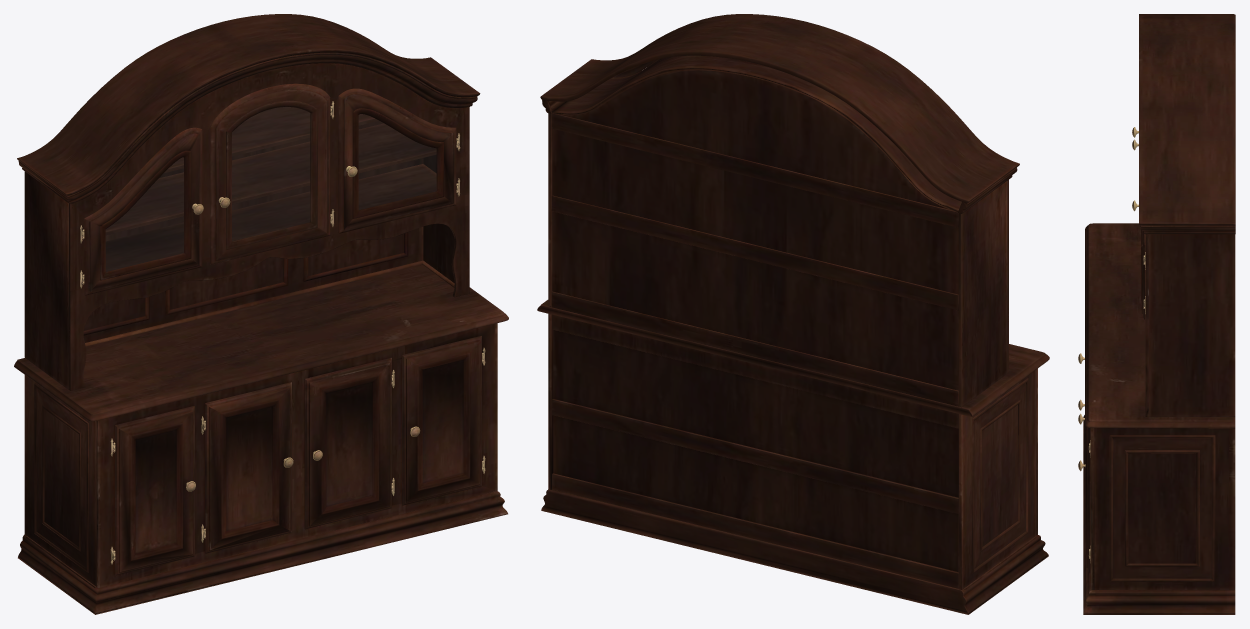
The model's file is polyhaven-vintage-cabinet-01.glb.
3 renders of one model, left to right at view 1: azimuth 30°, elevation 25°; view 2: azimuth 150°, elevation 25°; view 3: azimuth 270°, elevation 25°, orthographic. The views are drawn at different scales.
Parts seen in each view (by area): view 1: vintage_cabinet_01_body, vintage_cabinet_01_door_03, vintage_cabinet_01_door_01, vintage_cabinet_01_door_04, vintage_cabinet_01_door_07, vintage_cabinet_01_door_06, vintage_cabinet_01_door_05, vintage_cabinet_01_door_02; view 2: vintage_cabinet_01_body; view 3: vintage_cabinet_01_body, vintage_cabinet_01_door_02, vintage_cabinet_01_door_04.
Part boxes in pixels (bbox=[...]): vintage_cabinet_01_body: bbox=[14, 14, 508, 614]; vintage_cabinet_01_door_03: bbox=[210, 83, 332, 264]; vintage_cabinet_01_door_01: bbox=[82, 127, 203, 295]; vintage_cabinet_01_door_04: bbox=[338, 88, 458, 233]; vintage_cabinet_01_door_07: bbox=[304, 357, 392, 529]; vintage_cabinet_01_door_06: bbox=[204, 382, 293, 553]; vintage_cabinet_01_door_05: bbox=[113, 406, 195, 575]; vintage_cabinet_01_door_02: bbox=[402, 335, 483, 505]; vintage_cabinet_01_body: bbox=[537, 14, 1049, 614]; vintage_cabinet_01_body: bbox=[1083, 14, 1235, 614]; vintage_cabinet_01_door_02: bbox=[1078, 427, 1090, 572]; vintage_cabinet_01_door_04: bbox=[1132, 200, 1145, 319].
Bounding box in the file's own units: 2.02 × 2.24 × 0.6698.
3 materials, 2 textured.
